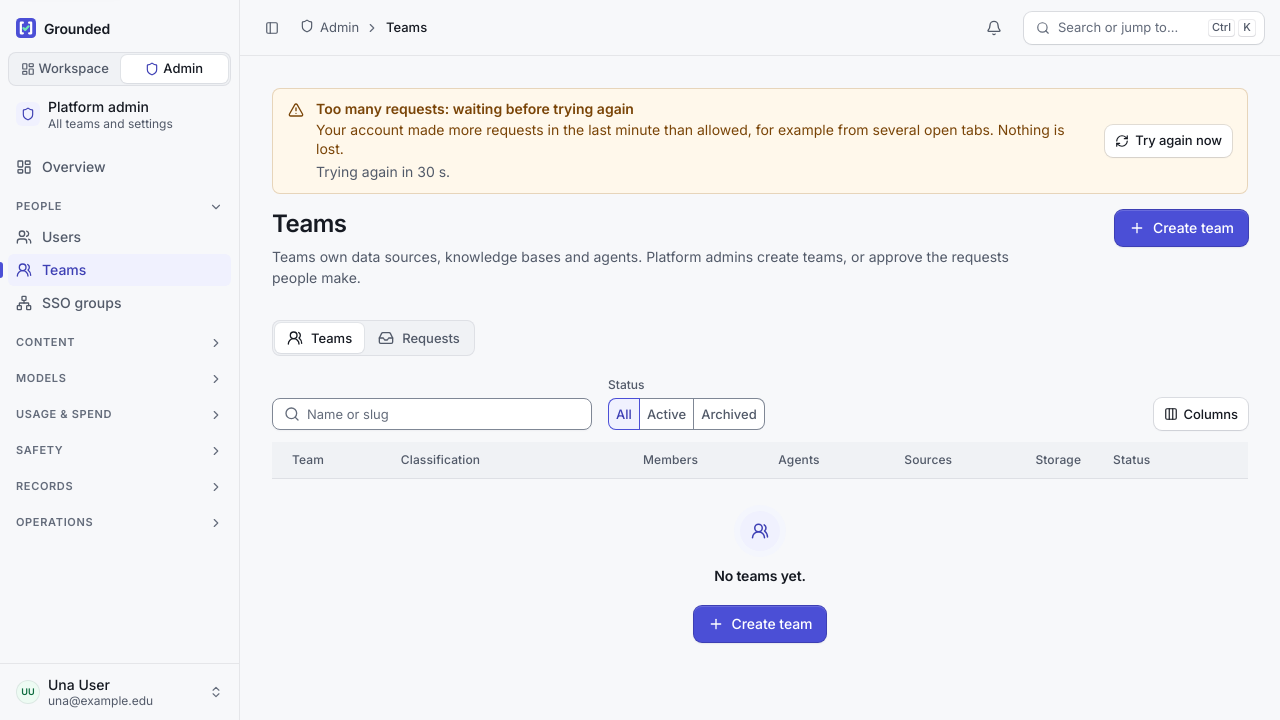
Test: the rate-limit banner (AD2-09) › says the account is rate-limited, counts down and tries again now on request
Expected: the heading "Teams" is shown, [272,210,347,238]
Expected: the text "Too many requests: waiting before trying again" is shown, [316,100,634,117]
Click the button "Try again now".
click(1169, 141)  # box [1105,125,1232,157]
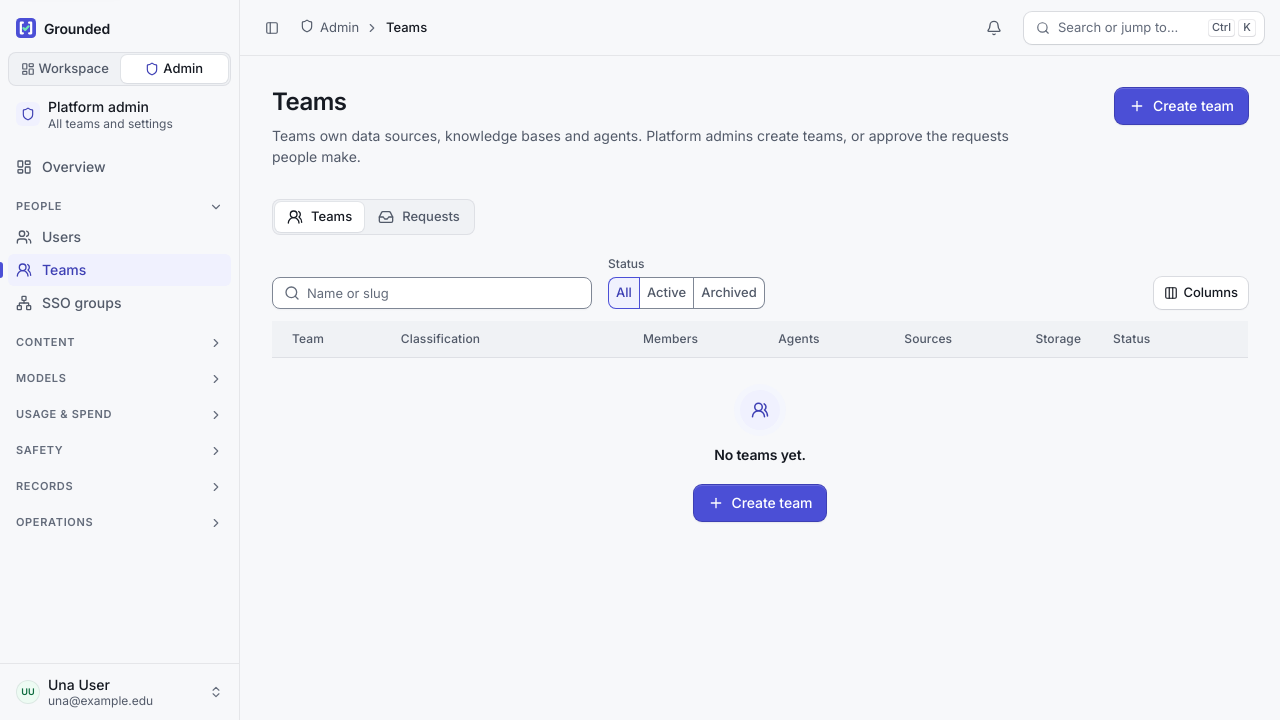
Result: the text "Too many requests" is gone
